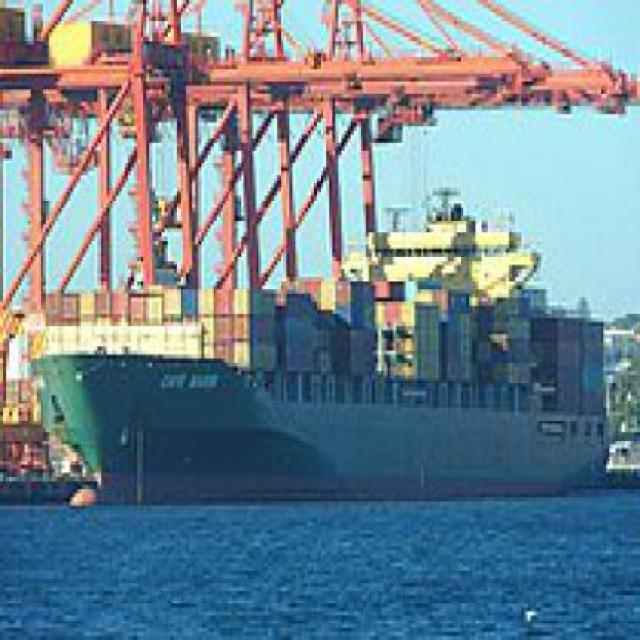container: (20, 184, 620, 510)
